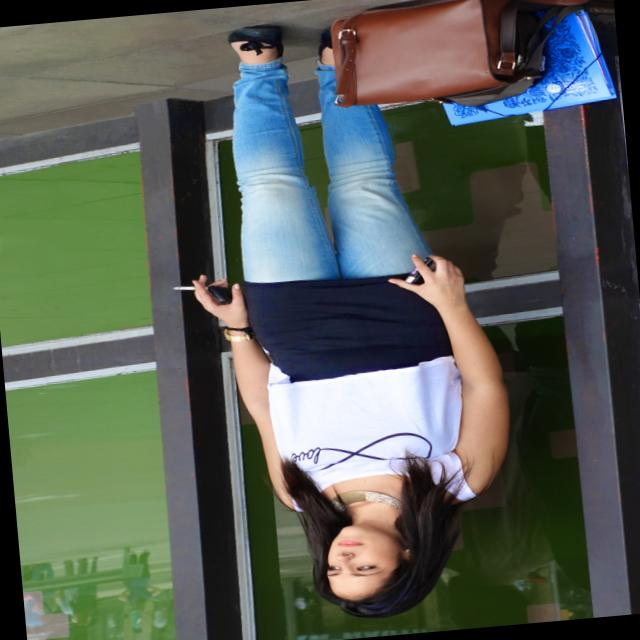smoke: (169, 278, 214, 296)
